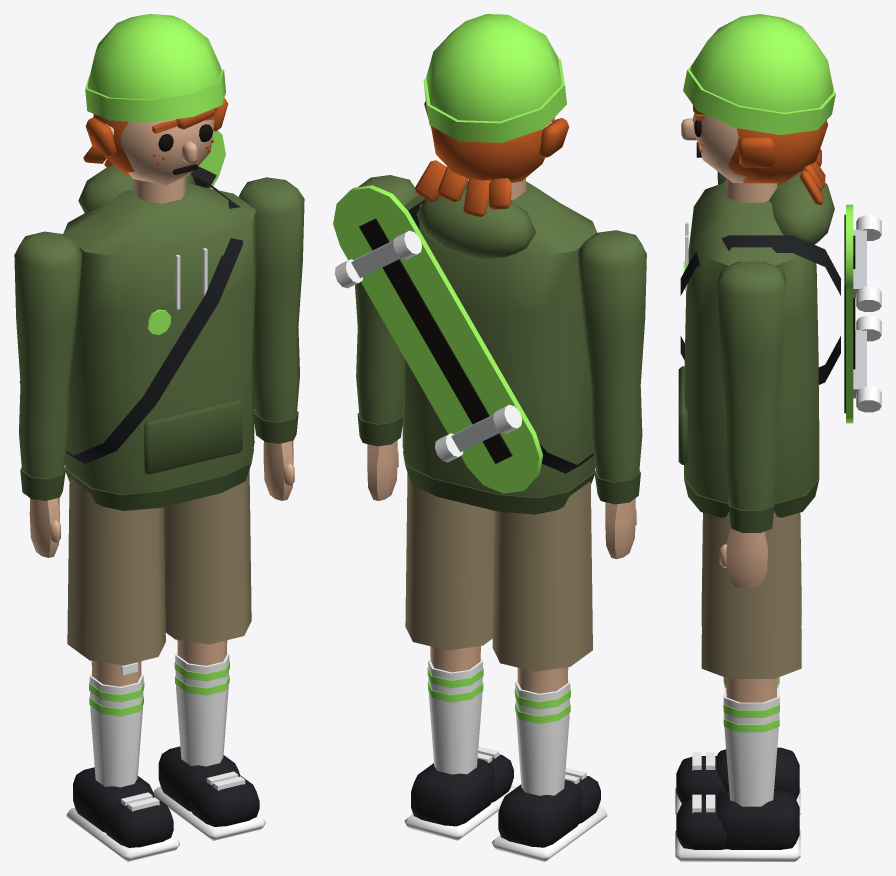
Rendered from npc5.glb.
3 views of the same model, side by side, from view 1: azimuth 30°, elevation 25°; view 2: azimuth 150°, elevation 25°; view 3: azimuth 270°, elevation 25° (orthographic).
Parts seen in each view (by area): view 1: Body, LegLMesh, LegRMesh, HeadMesh, ArmLMesh, ArmRMesh; view 2: Body, LegLMesh, LegRMesh, HeadMesh, ArmLMesh, ArmRMesh; view 3: Body, LegRMesh, HeadMesh, ArmRMesh, LegLMesh.
Boxes of the visible parts, x1,y1,x2,y2 form: Body: (19,130,256,510); LegLMesh: (66,478,179,861); LegRMesh: (153,470,265,840); HeadMesh: (83,14,227,203); ArmLMesh: (14,231,81,557); ArmRMesh: (238,177,304,500); Body: (333,181,596,514); LegLMesh: (492,481,607,861); LegRMesh: (404,472,516,840); HeadMesh: (415,14,568,216); ArmLMesh: (578,230,646,559); ArmRMesh: (355,175,418,500); Body: (678,171,881,517); LegRMesh: (675,511,801,861); HeadMesh: (681,14,835,204); ArmRMesh: (717,261,785,587); LegLMesh: (675,512,801,815).
Bounding box in the file's own units: 0.7058 × 1.96 × 0.4525.
